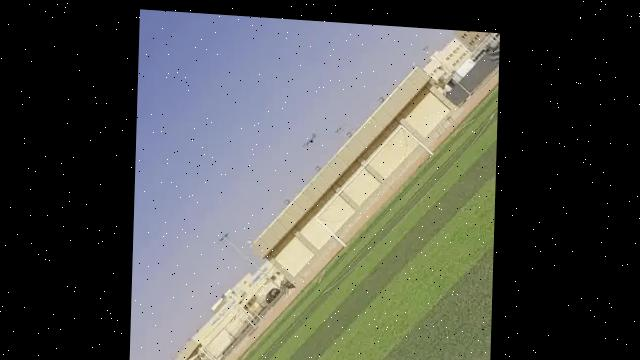drone: (297, 124, 319, 146)
